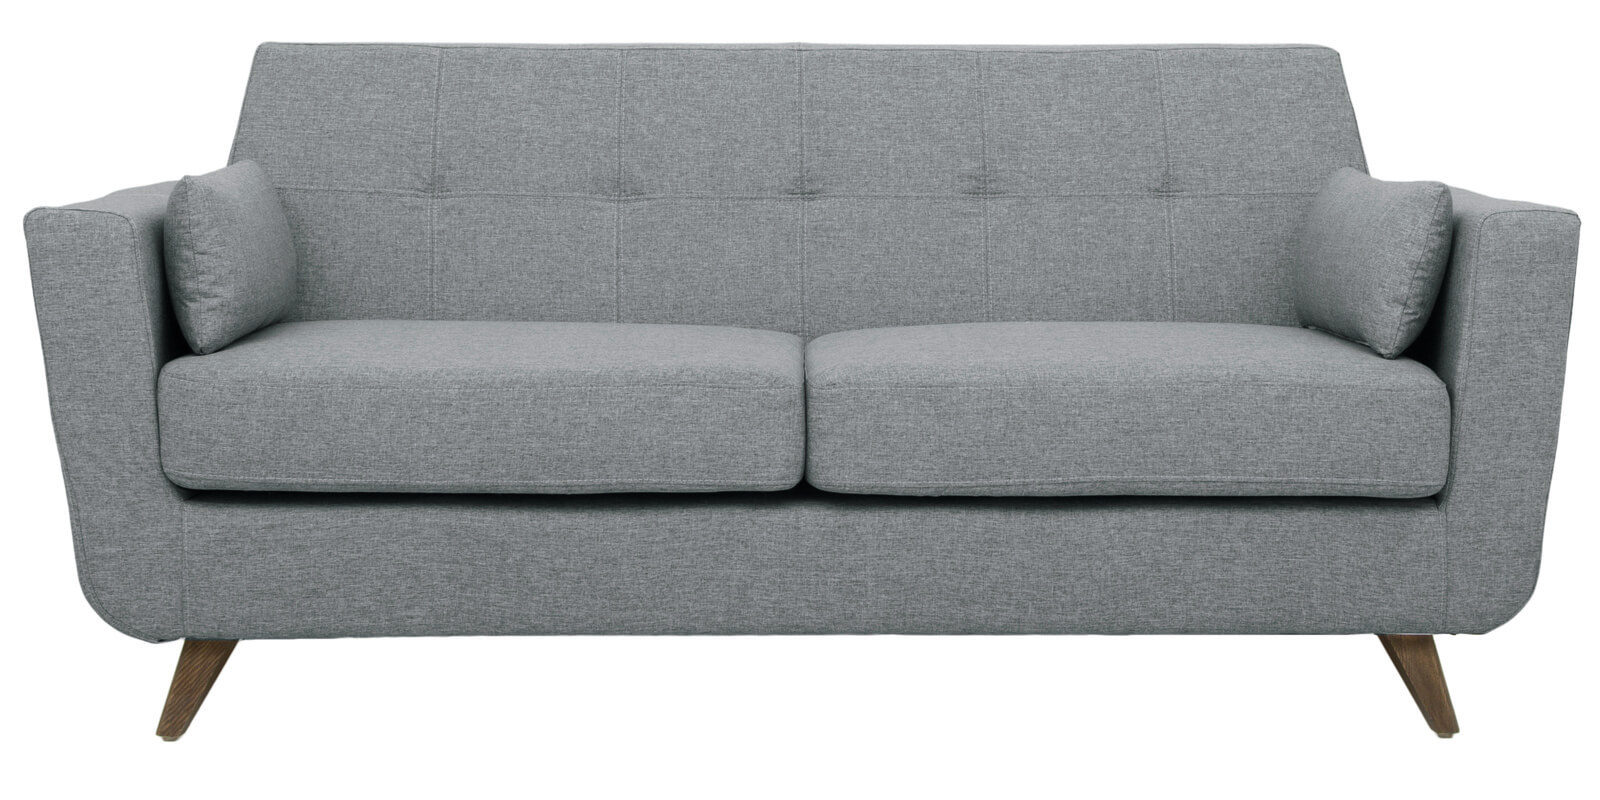Castello Three Seater Sofa in Gravel Grey Colour by CasaCraft: (21, 21, 1589, 776)
